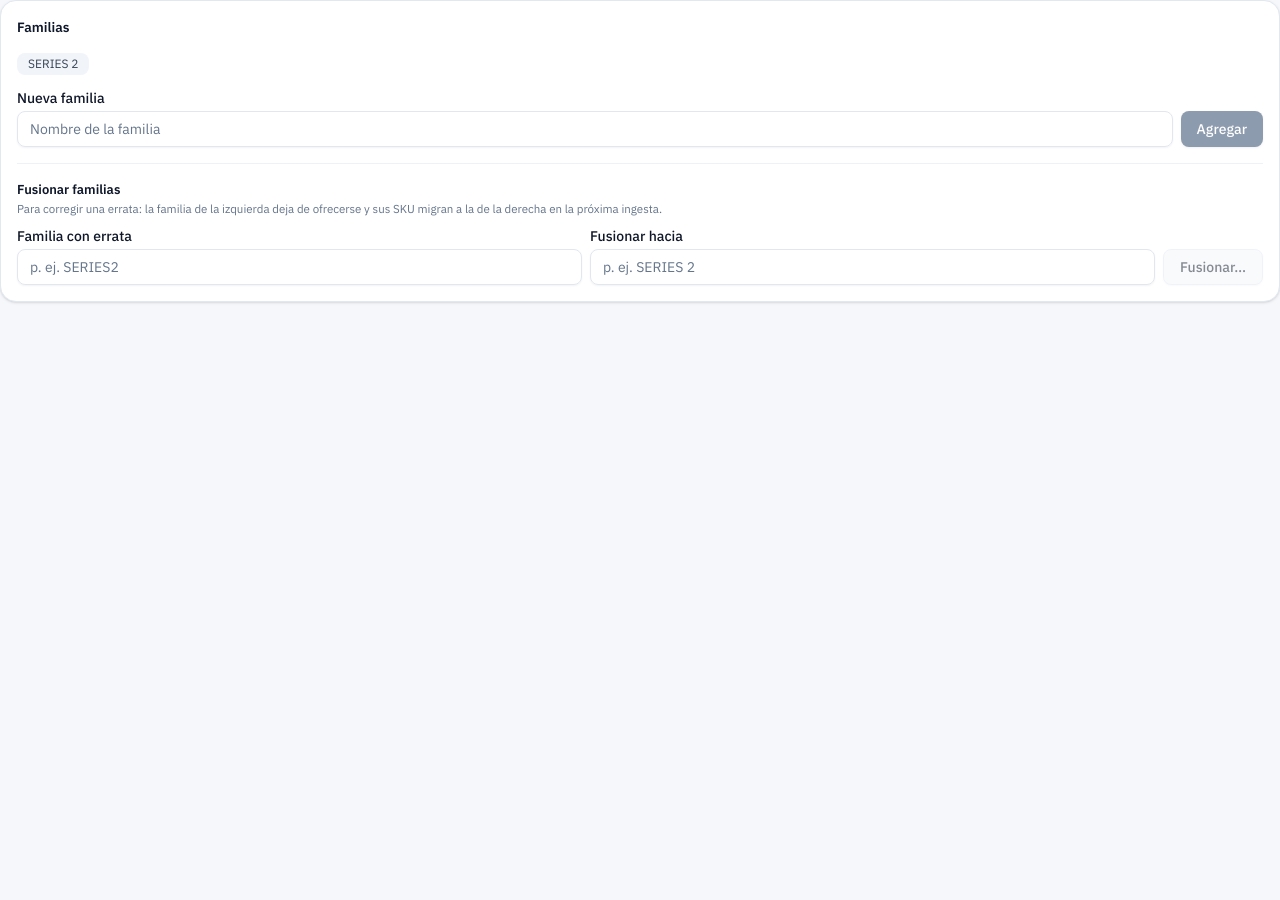
Test: ConfigFamilias — Fusionar familias (C, [MVP-2]) › alias que todavía no existe como fila (solo vive en el Excel): cubre:0 y N SKU en 0, mensaje distinto
The width and height of the screenshot is (1280, 900).
expect the text "SERIES 2" is shown: met, box [17, 53, 90, 75]
Type "NUEVA ERRATA" into the field labelled "Familia con errata". click: (300, 267)
box: [17, 249, 582, 285]
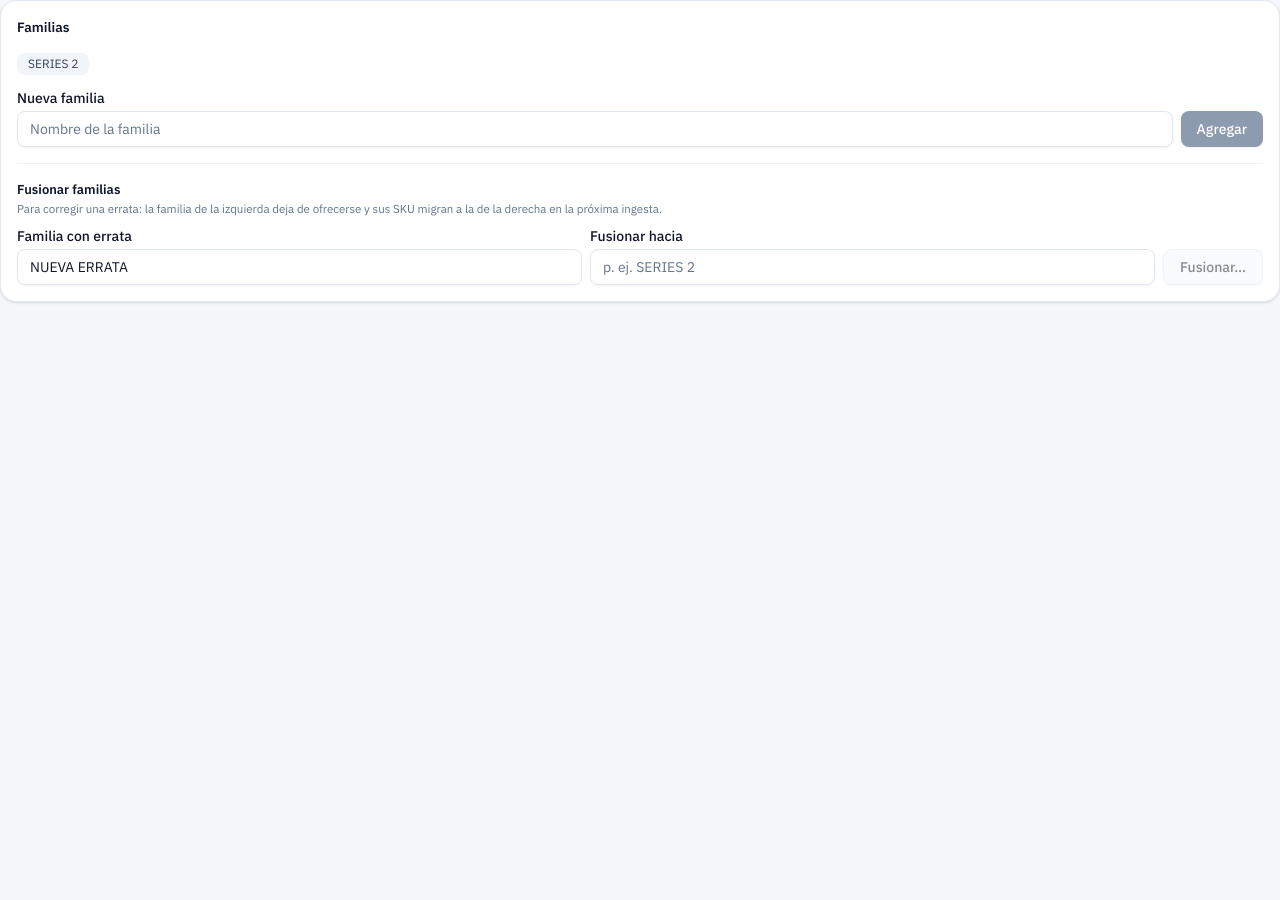
Type "SERIES 2" into the field labelled "Fusionar hacia". click: (872, 267)
box: [590, 249, 1155, 285]
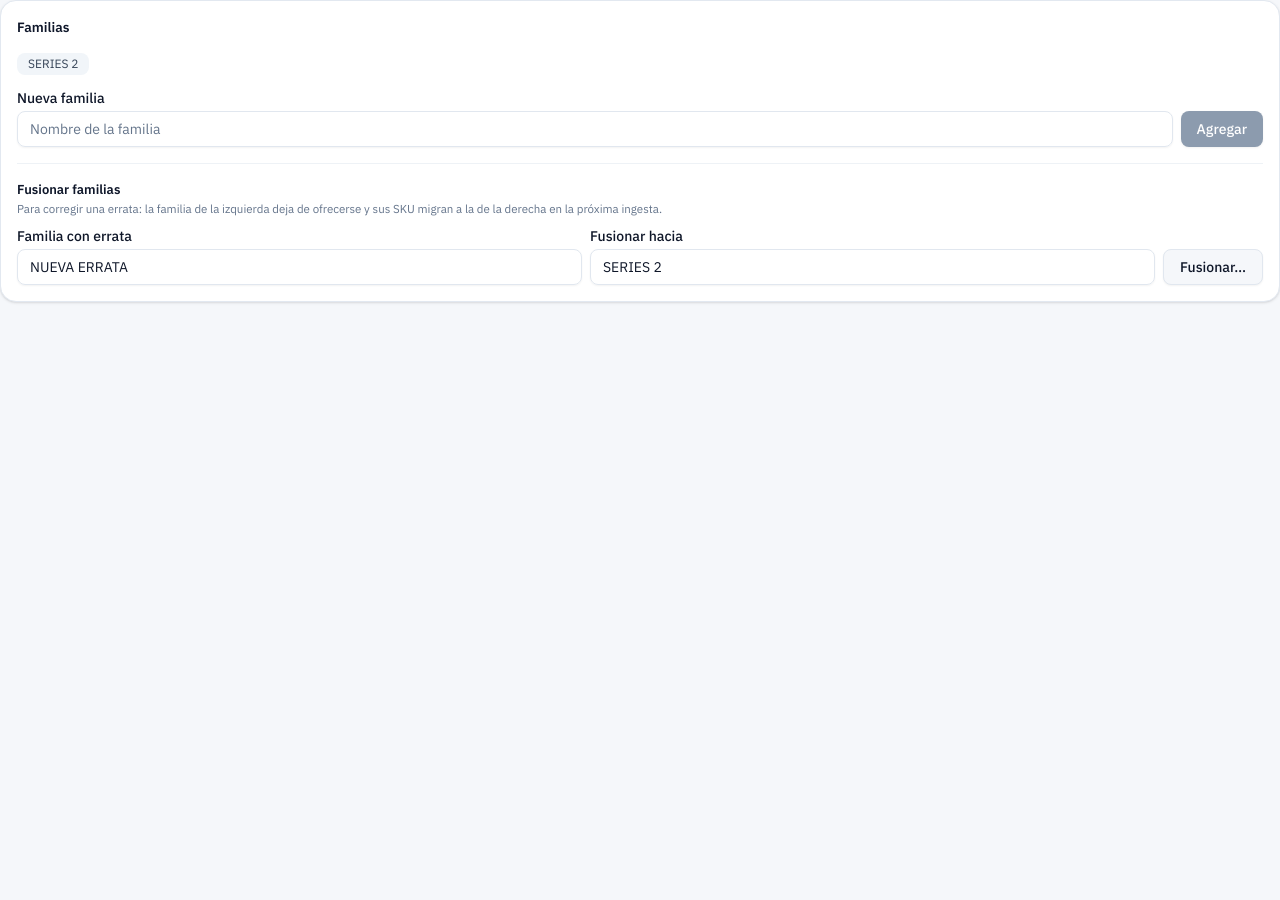
Click the button "Fusionar…". click: (1213, 267)
box: [1163, 249, 1263, 285]
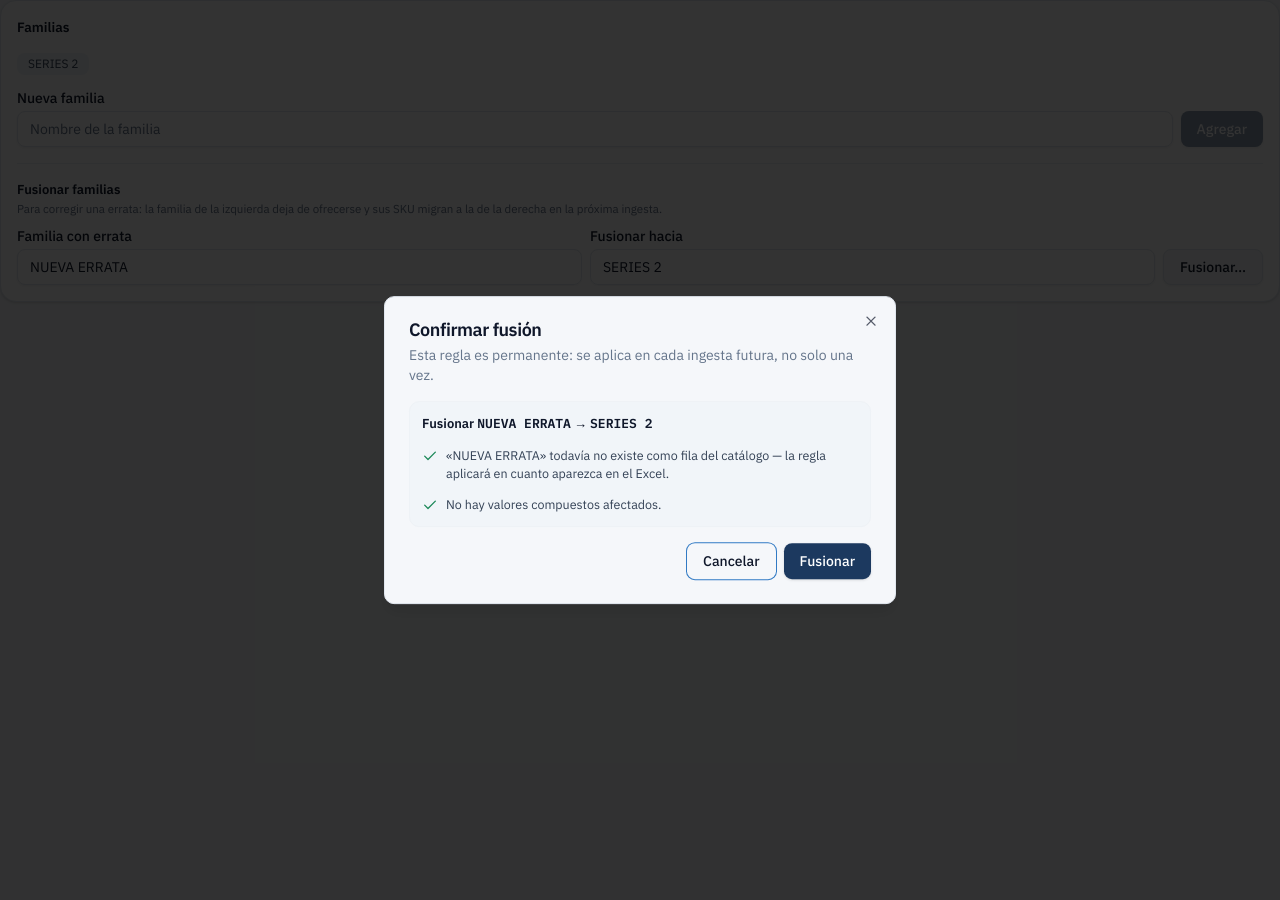
expect the text "«NUEVA ERRATA» todavía no existe como fila del catálogo — la regla aplicará en cuanto aparezca en el Excel." is shown: met, box [446, 446, 858, 483]
